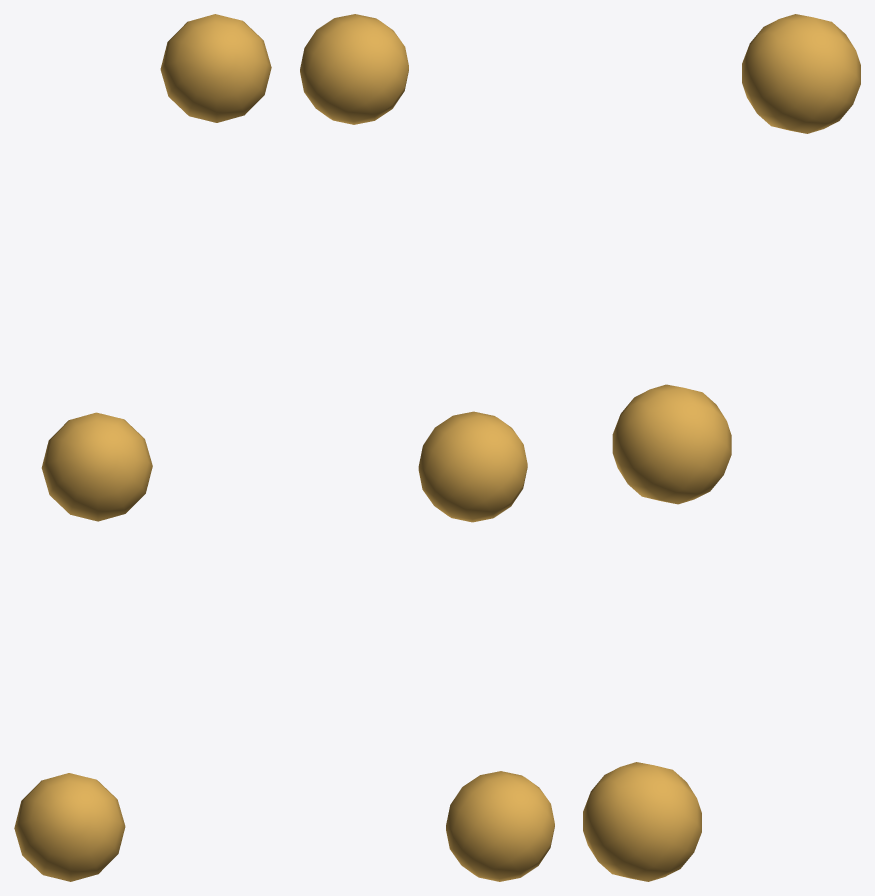
3 renders of one model, left to right at view 1: azimuth 30°, elevation 25°; view 2: azimuth 150°, elevation 25°; view 3: azimuth 330°, elevation 25°, orthographic. The views are drawn at different scales.
Parts seen in each view (by area): view 1: 左侧下颌下淋巴结; view 2: 左侧下颌下淋巴结; view 3: 左侧下颌下淋巴结.
Boxes of the visible parts, x1,y1,x2,y2 form: 左侧下颌下淋巴结: (14,14,271,881); 左侧下颌下淋巴结: (300,14,554,881); 左侧下颌下淋巴结: (583,14,860,881).
Size of the model in its own units: 0.00957 by 0.0313 by 0.00377.
